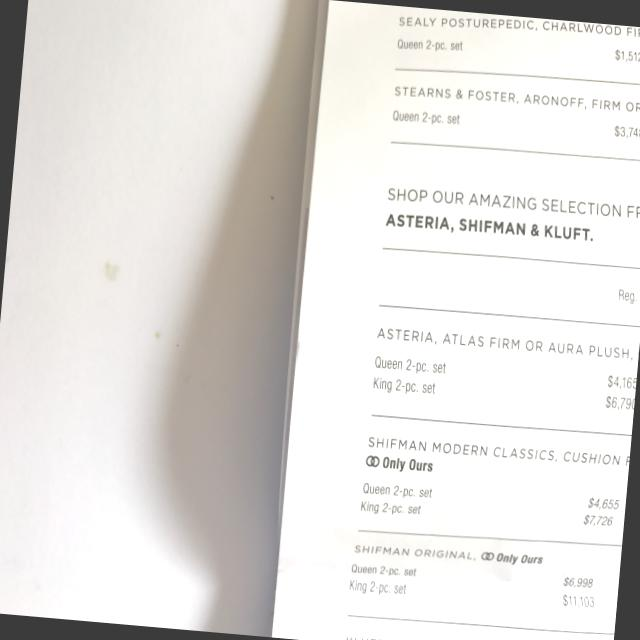Paper: (246, 0, 640, 640)
